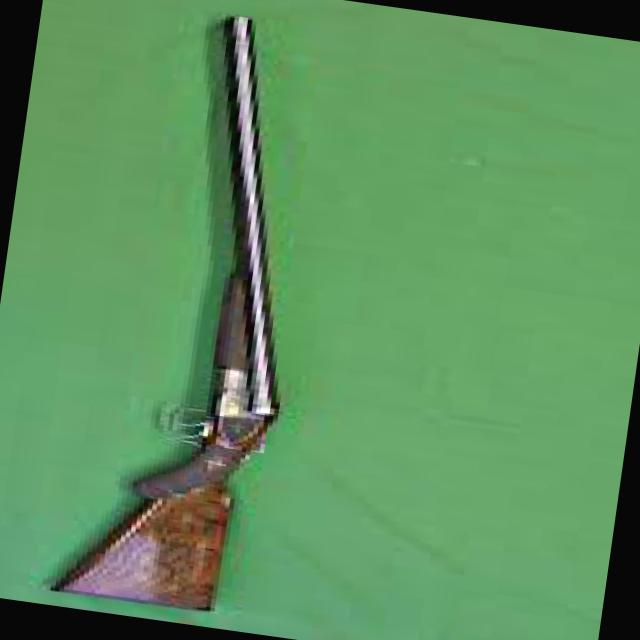long weapon: (43, 0, 325, 623)
